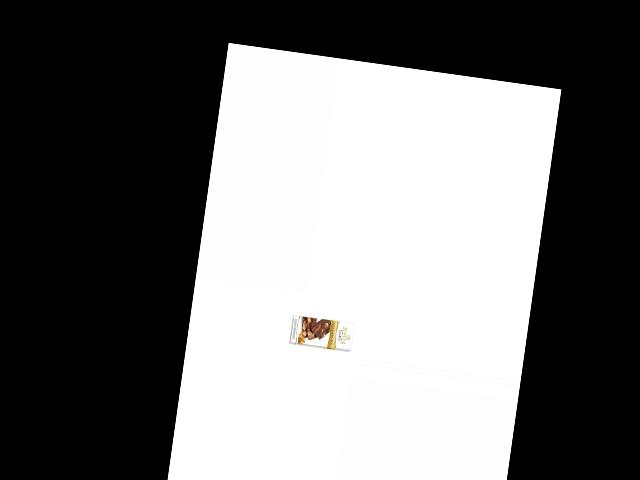chocolate: (289, 308, 359, 357)
